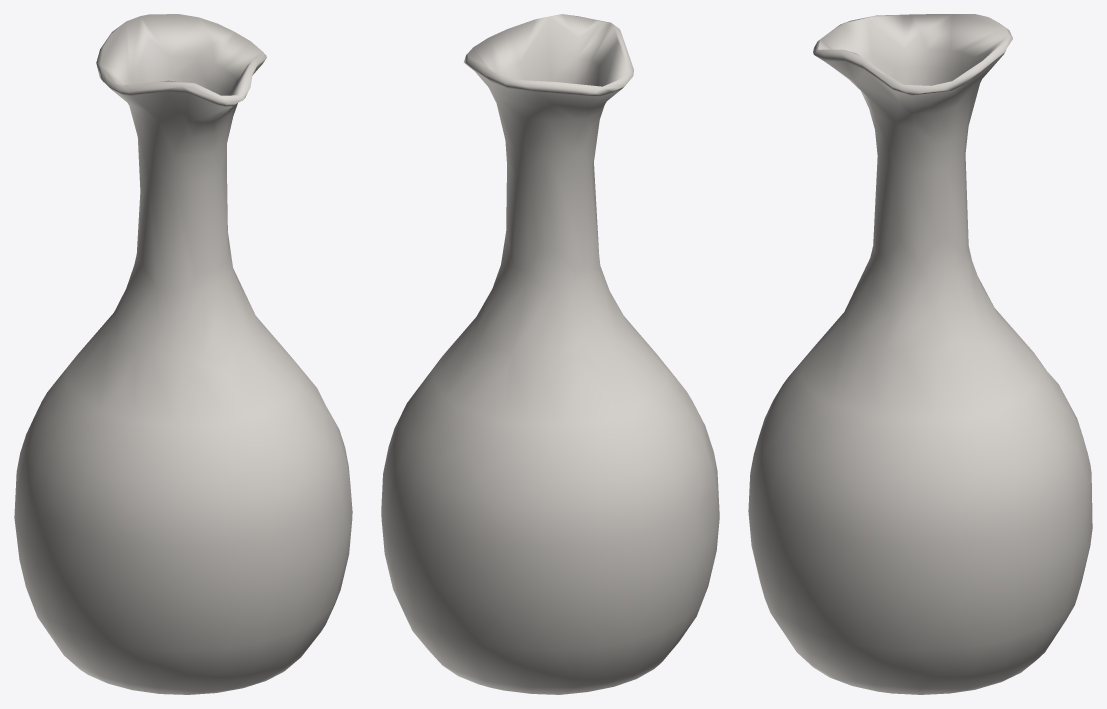
File: ceramic_vase_01.glb
The picture shows the model from 3 angles, left to right: view 1: azimuth 30°, elevation 25°; view 2: azimuth 150°, elevation 25°; view 3: azimuth 270°, elevation 25°; orthographic projection.
Parts seen in each view (by area): view 1: ceramic_vase_01; view 2: ceramic_vase_01; view 3: ceramic_vase_01.
Part boxes in pixels (left/top/right/bottom): ceramic_vase_01: left=14, top=14, right=352, bottom=694; ceramic_vase_01: left=381, top=14, right=719, bottom=694; ceramic_vase_01: left=748, top=14, right=1092, bottom=694.
Size of the model in its own units: 0.2036 by 0.4003 by 0.2031.
Materials: 1 (1 with a texture image).
